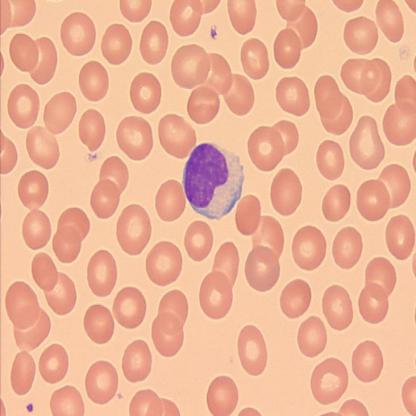Atypical lymphocyte: (178, 138, 248, 228)
